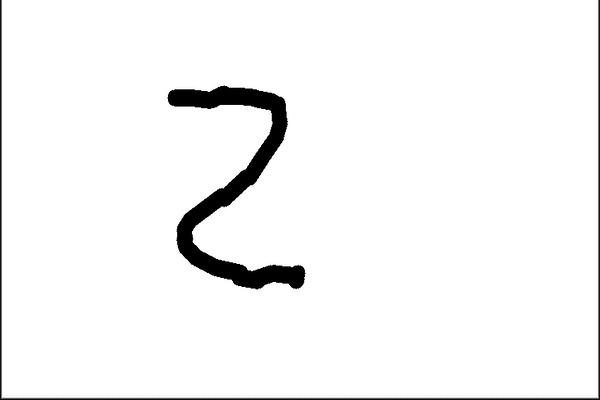Z: (160, 76, 309, 294)
